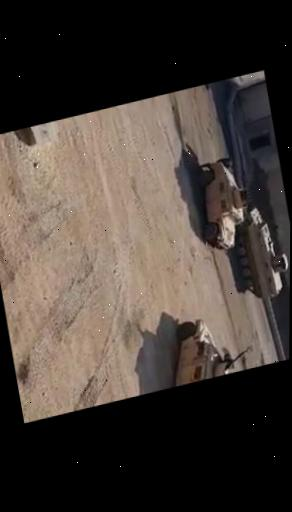armored_car: (191, 151, 257, 255), (157, 310, 237, 389)
tank: (228, 202, 290, 303)
